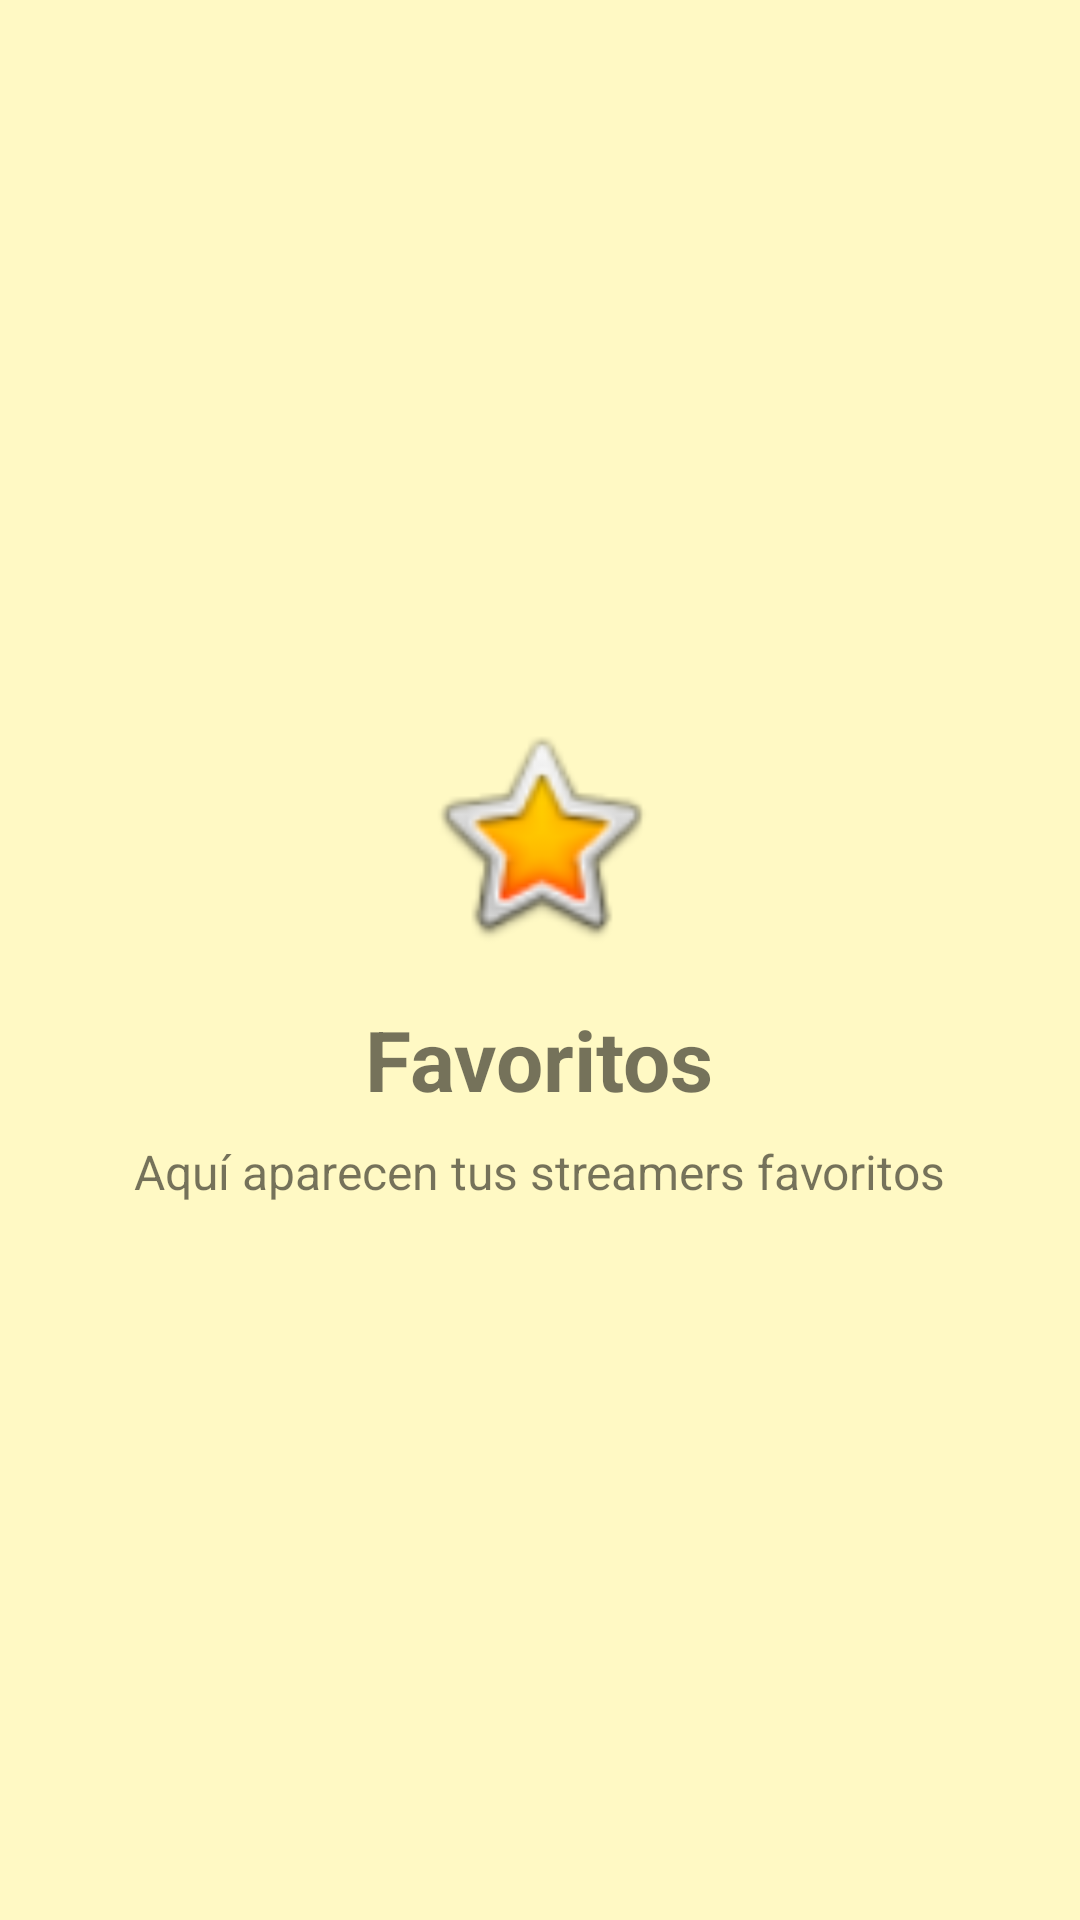

Named icons in this screenshot (1080px x 1920px) and their centers, point (x, y):
star on: point (542, 837)
